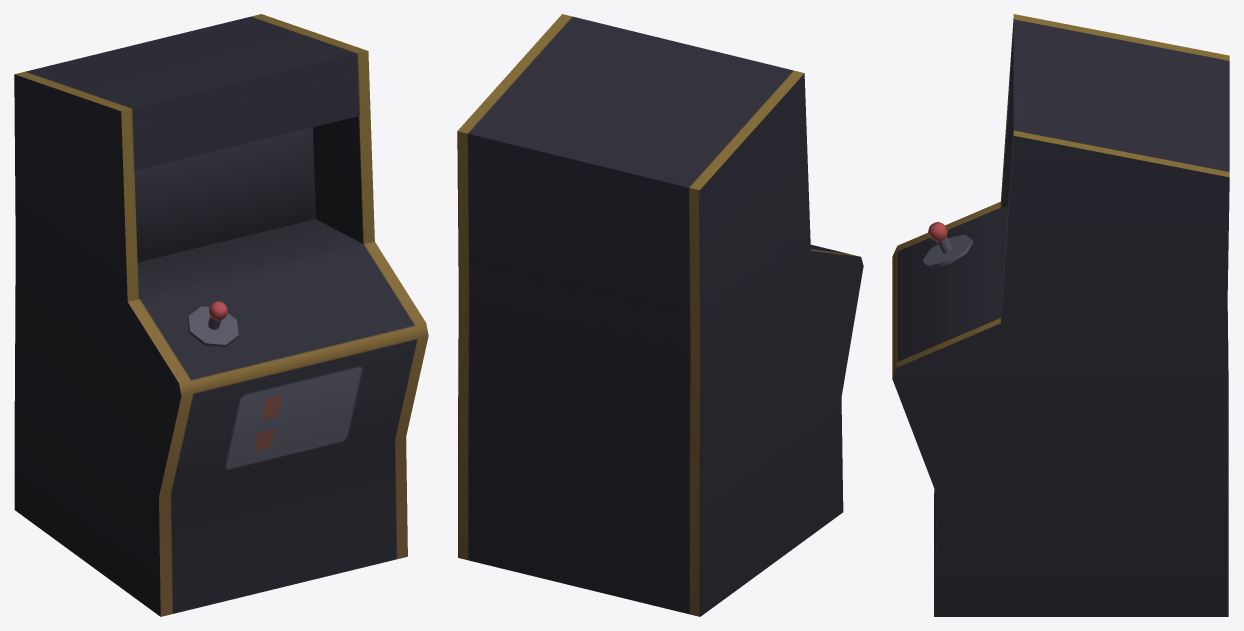
Rendered from Arcade machine.fbx.
The picture shows the model from 3 angles, left to right: view 1: azimuth 30°, elevation 25°; view 2: azimuth 150°, elevation 25°; view 3: azimuth 270°, elevation 25°; orthographic projection. The views are drawn at different scales.
Visible parts, largest first — view 1: Arcade machine; view 2: Arcade machine; view 3: Arcade machine.
Boxes of the visible parts, left/top/right/bottom form: Arcade machine: left=14, top=14, right=428, bottom=616; Arcade machine: left=457, top=14, right=863, bottom=616; Arcade machine: left=892, top=14, right=1229, bottom=616.
Size of the model in its own units: 1.51 by 2.79 by 1.77.
Materials: 1 (1 with a texture image).
